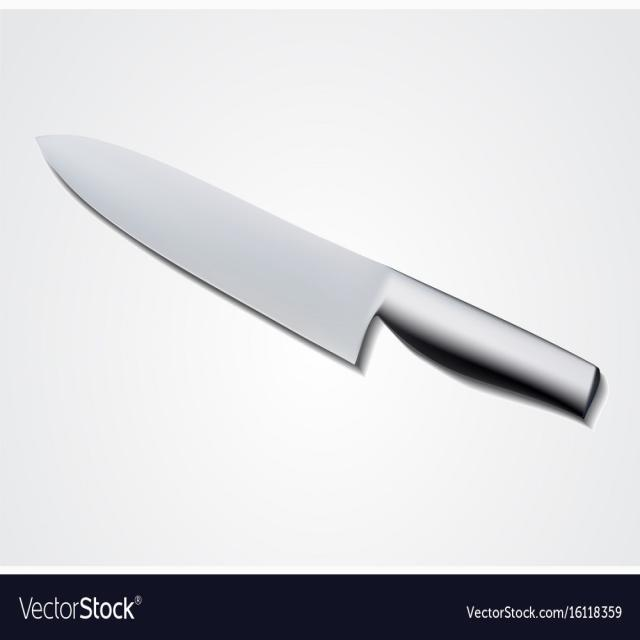Knife: (35, 131, 601, 423)
